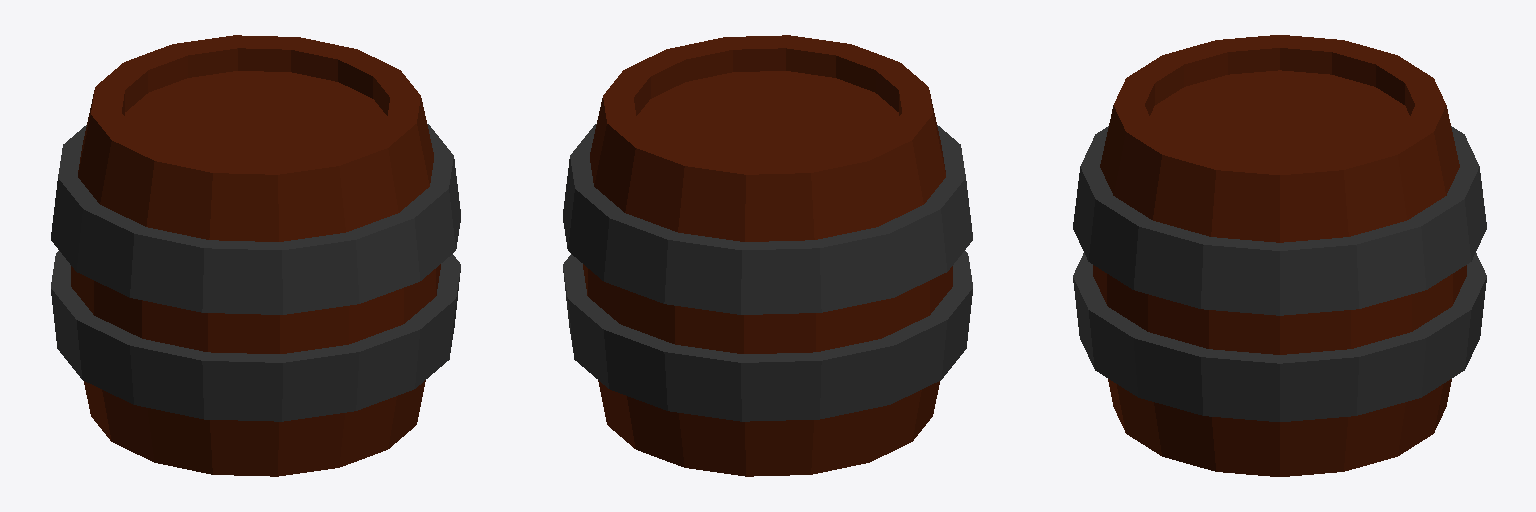
The model's file is barrel.obj.
3 renders of one model, left to right at view 1: azimuth 30°, elevation 25°; view 2: azimuth 150°, elevation 25°; view 3: azimuth 270°, elevation 25°, orthographic.
Parts seen in each view (by area): view 1: Cylinder.002; view 2: Cylinder.002; view 3: Cylinder.002.
Part boxes in pixels (left/top/right/bottom): Cylinder.002: left=51, top=35, right=460, bottom=476; Cylinder.002: left=563, top=35, right=972, bottom=476; Cylinder.002: left=1073, top=35, right=1486, bottom=476.
Bounding box in the file's own units: 2.49 × 2 × 2.49.